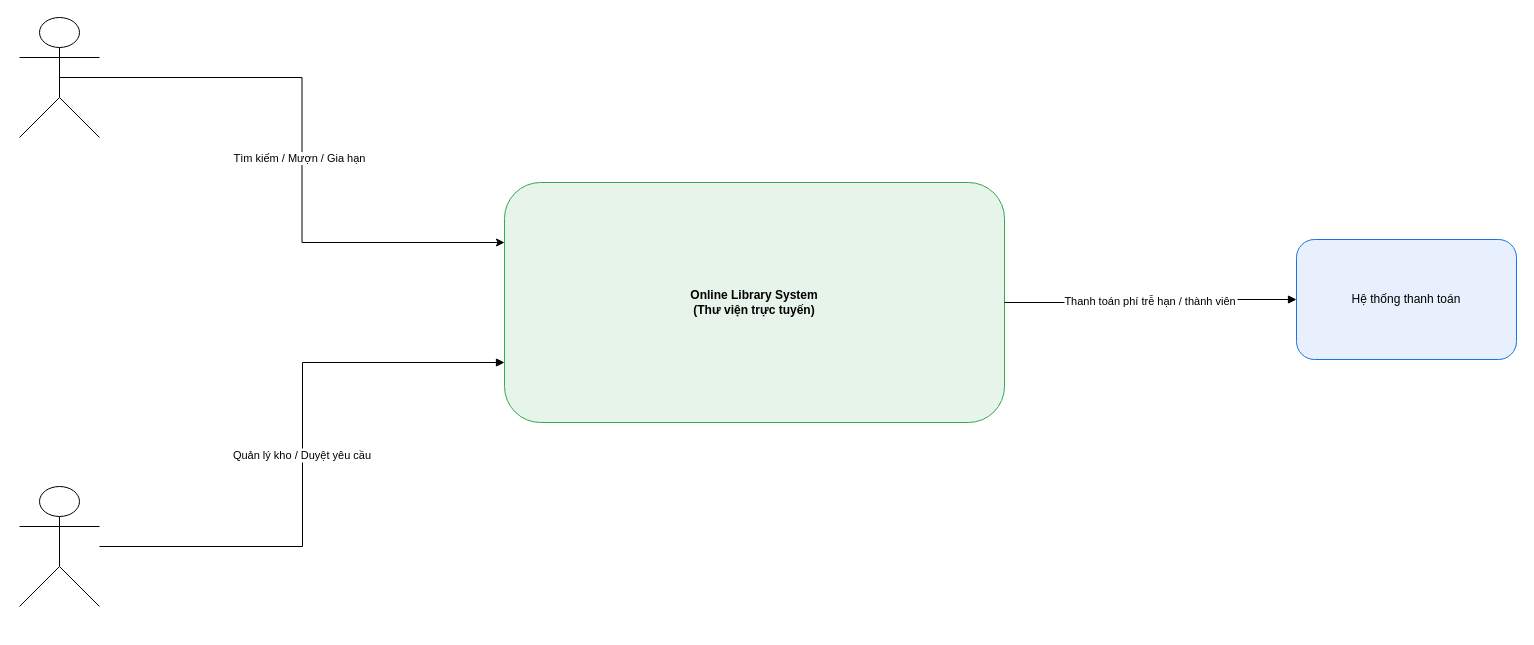
The diagram is 1534 pixels wide and 645 high, and some of its shapes have lost their labels. The box of each missing label's shape, as (x1, y1, x2, y2) in pixels:
Người đọc: (18, 16, 100, 138)
Thủ thư / Admin: (18, 486, 100, 606)
